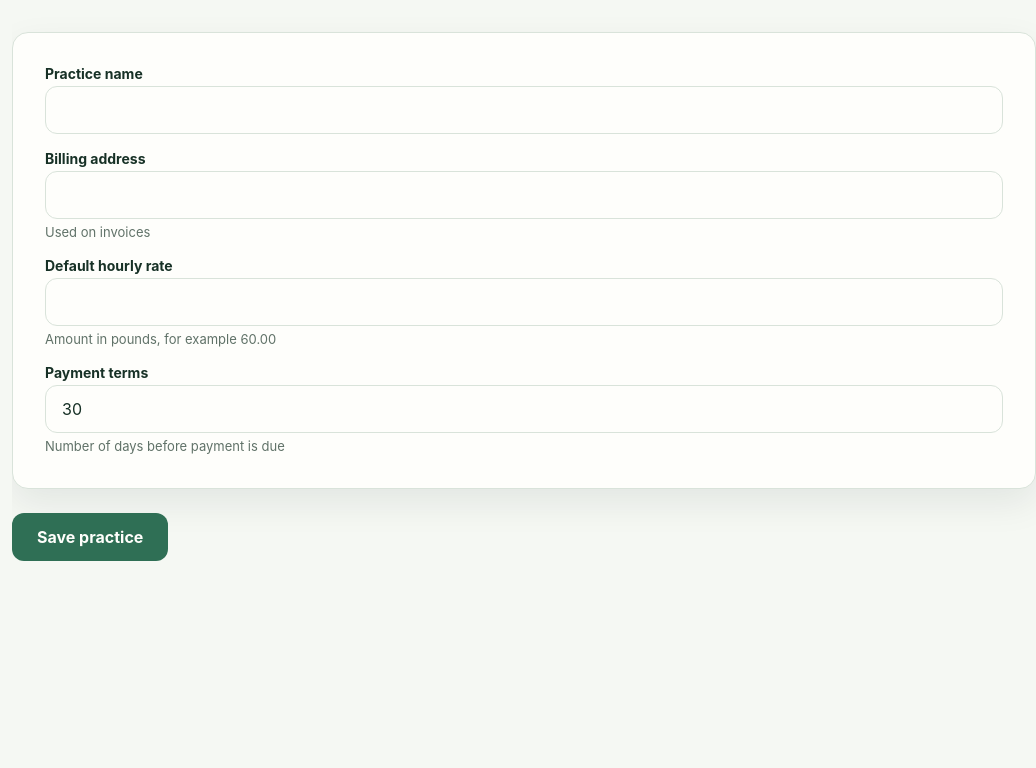
it: PracticeForm › requires a practice name and exposes the error accessibly
Step 1. Click the button "Save practice" → (90, 537), box top-left (12, 513), bottom-right (168, 561)
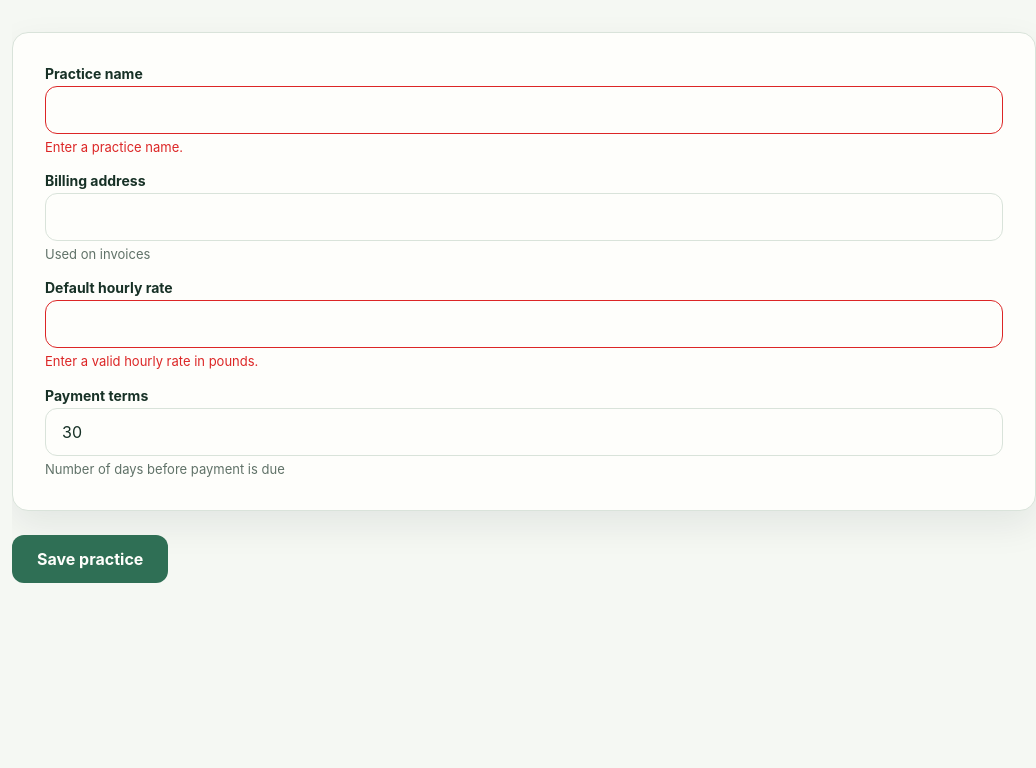
Expected: the text "Enter a practice name." is shown, top-left (45, 139), bottom-right (183, 155)
